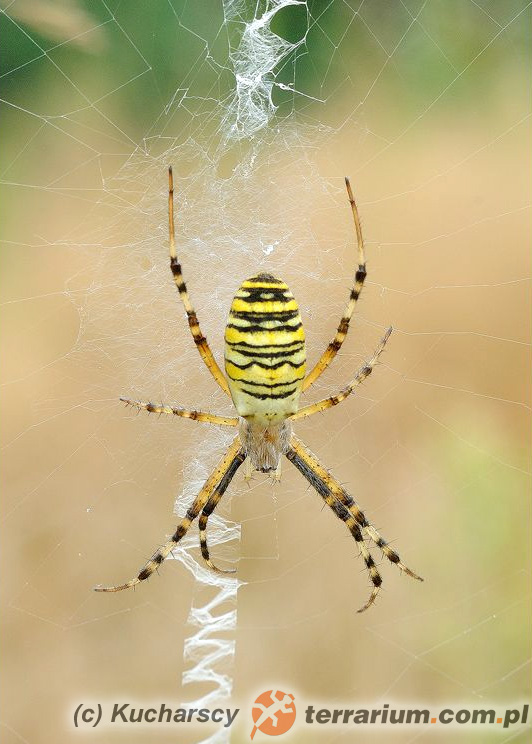spider: (61, 127, 446, 635)
